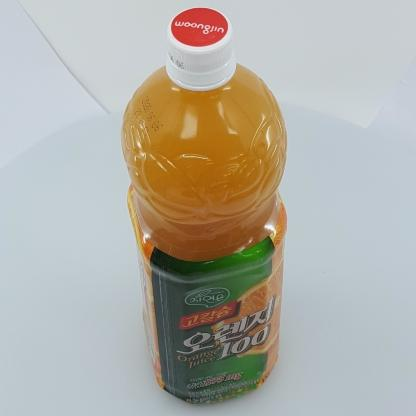--------1-5L: (121, 7, 287, 406)
